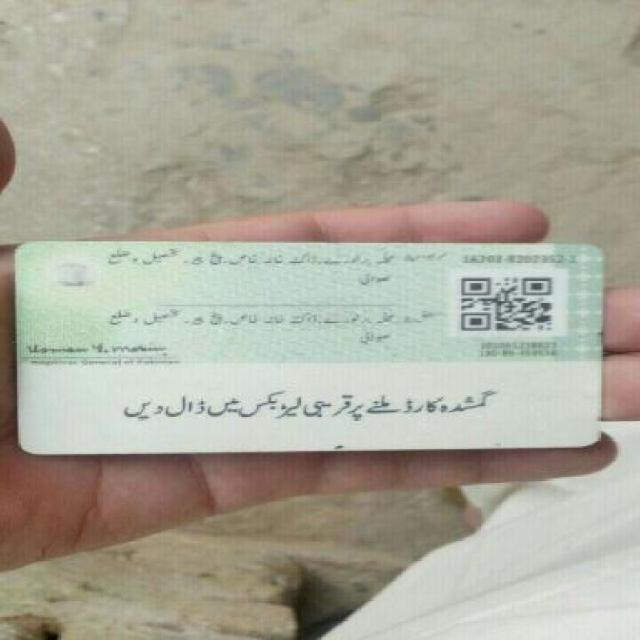Back: (8, 232, 612, 463)
